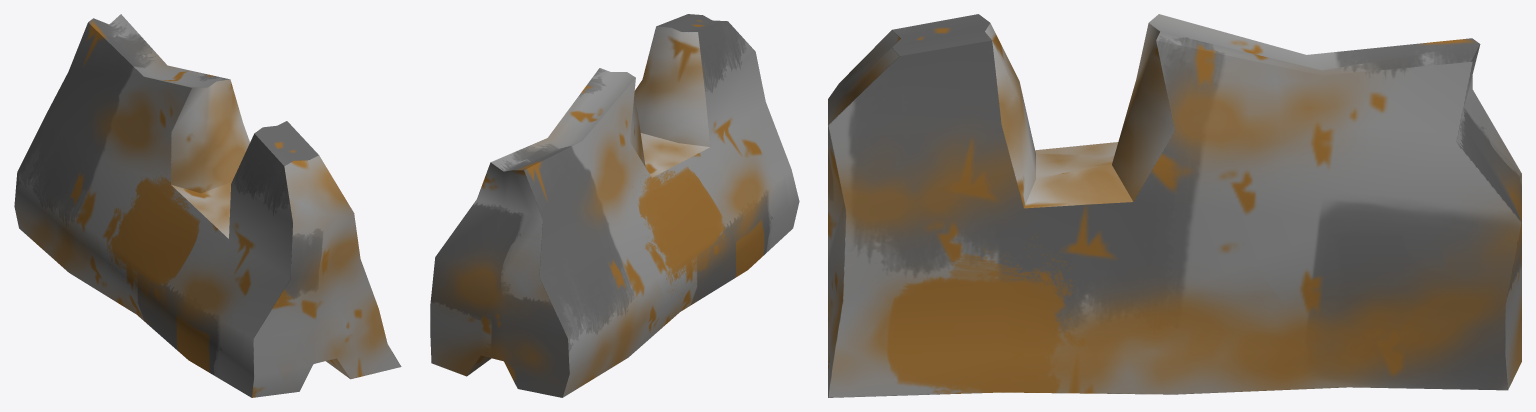
File: barricade_03.fbx
3 views of the same model, side by side, from view 1: azimuth 30°, elevation 25°; view 2: azimuth 150°, elevation 25°; view 3: azimuth 270°, elevation 25° (orthographic). The views are drawn at different scales.
Parts seen in each view (by area): view 1: barricade_3; view 2: barricade_3; view 3: barricade_3.
Boxes of the visible parts, x1=… form: barricade_3: x1=14, y1=14, x2=401, y2=397; barricade_3: x1=430, y1=14, x2=799, y2=397; barricade_3: x1=828, y1=14, x2=1521, y2=397.
Size of the model in its own units: 2.4 by 3.28 by 6.51.
